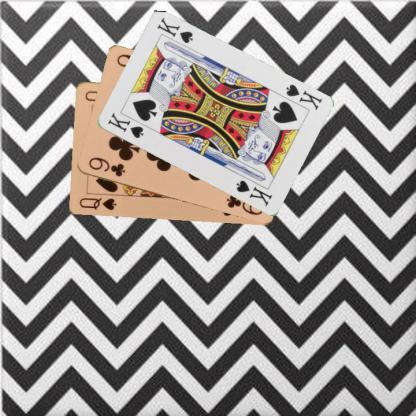9c: (86, 154, 126, 178)
Ks: (282, 82, 324, 112), (105, 110, 145, 140)
Qs: (76, 195, 118, 212)
